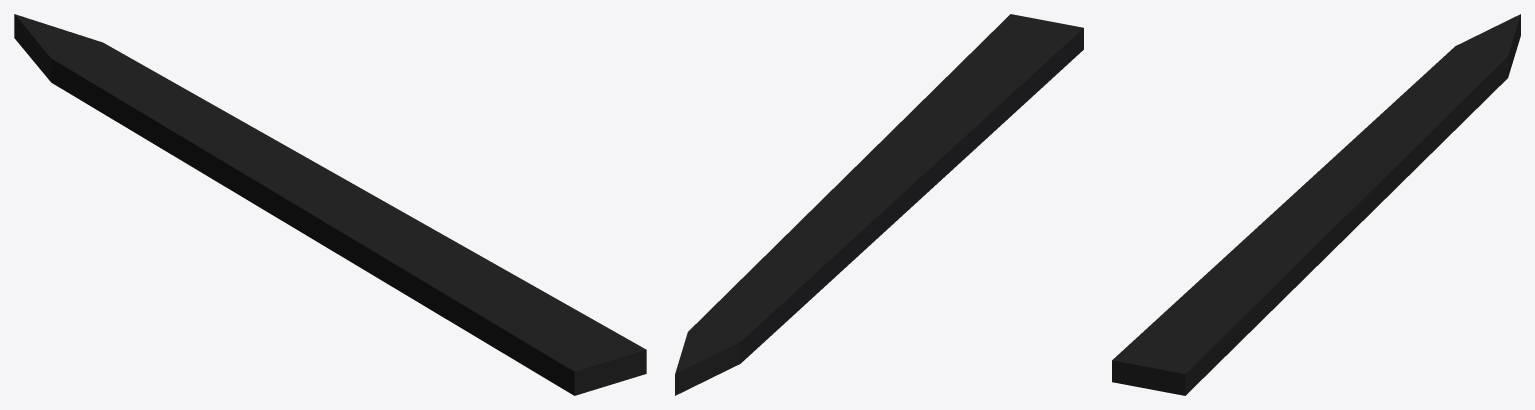
The model's file is lp_clkhand_m31.obj.
3 views of the same model, side by side, from view 1: azimuth 30°, elevation 25°; view 2: azimuth 150°, elevation 25°; view 3: azimuth 330°, elevation 25° (orthographic). The views are drawn at different scales.
Parts seen in each view (by area): view 1: lp_clkhand_m31; view 2: lp_clkhand_m31; view 3: lp_clkhand_m31.
Part boxes in pixels (box(x1,y1,x2,y2)): lp_clkhand_m31: box(14, 14, 646, 395); lp_clkhand_m31: box(675, 14, 1083, 395); lp_clkhand_m31: box(1112, 14, 1520, 395).
Size of the model in its own units: 0.1922 by 0.03 by 1.14.
Materials: 1 (1 with a texture image).
